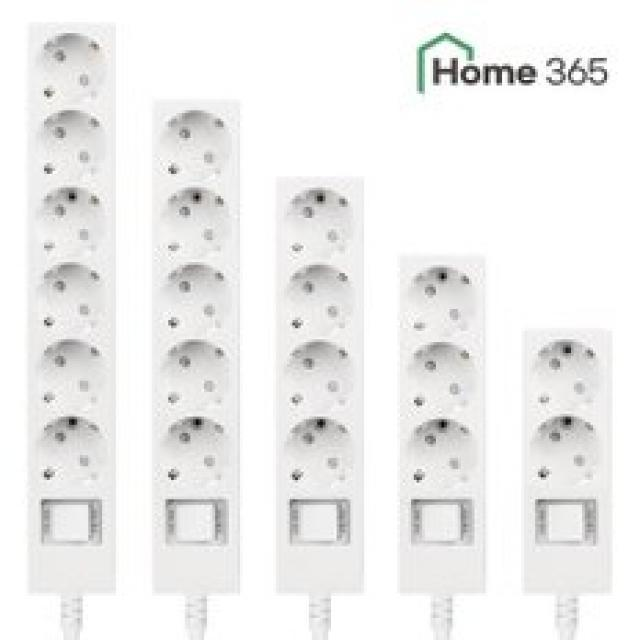typeb: (17, 11, 126, 610), (144, 91, 248, 608), (266, 162, 373, 612), (392, 238, 500, 612), (516, 314, 620, 609)
